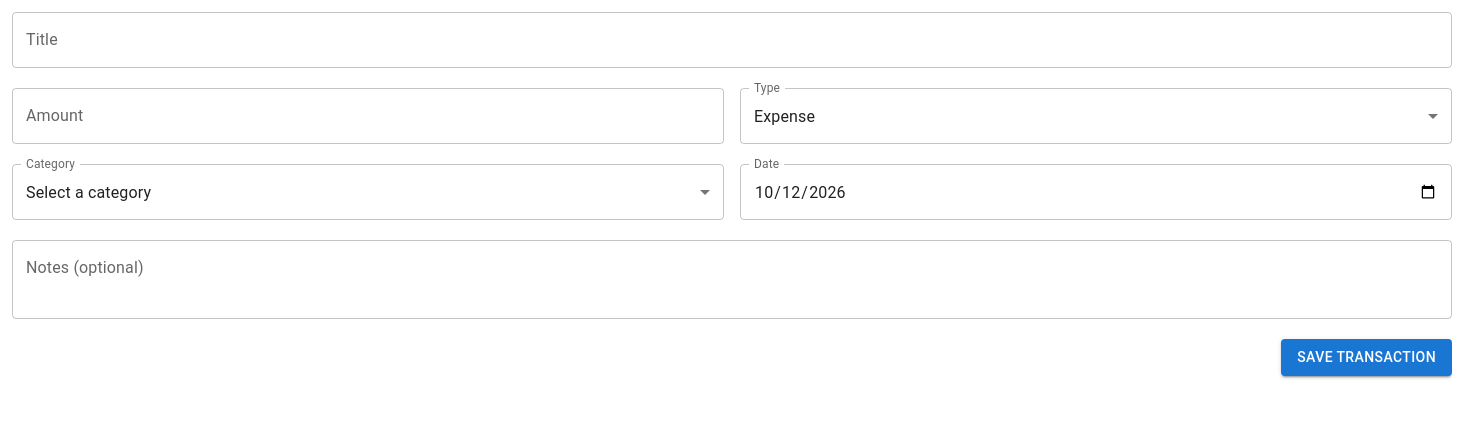
TransactionForm › rejects an amount of zero
The width and height of the screenshot is (1464, 441).
Type "Lunch" into the field labelled "Title" at (732, 40), box [12,12,1452,68]
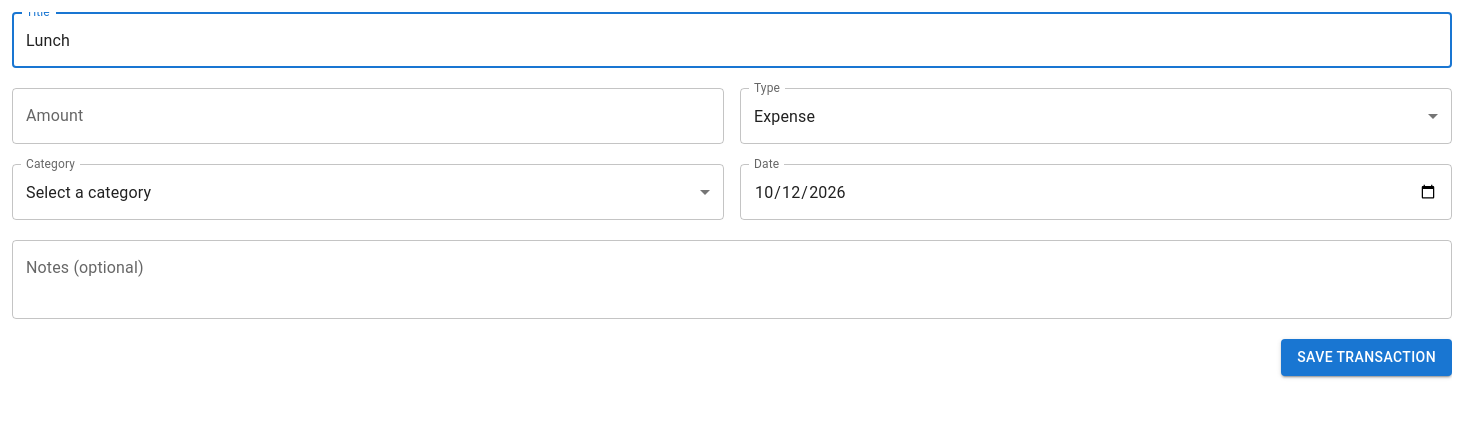
Type "0" into the field labelled "Amount" at (368, 116), box [12,88,724,144]
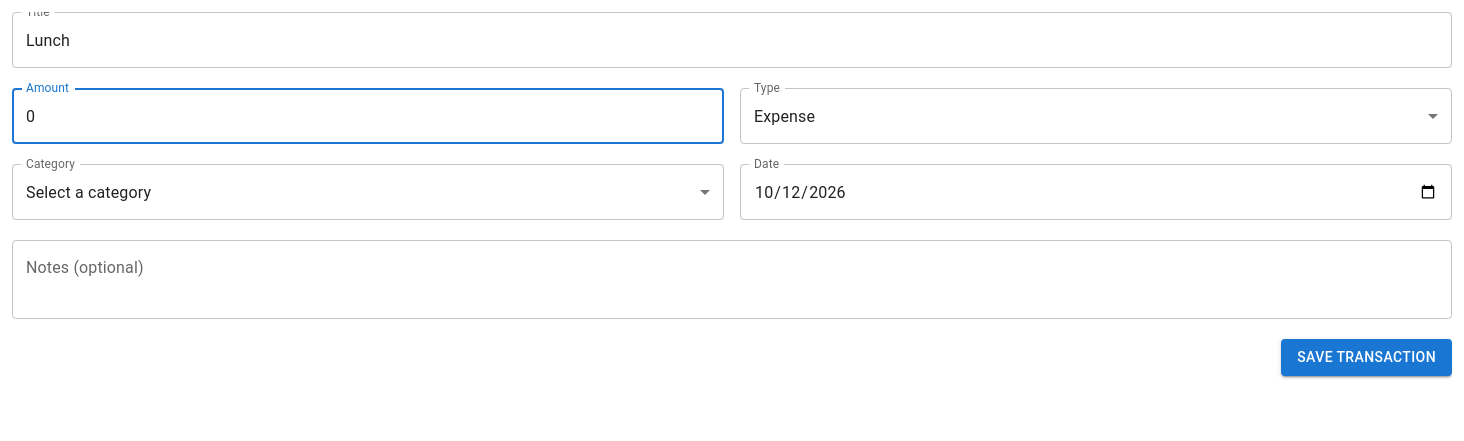
Click the button "Save transaction" at (1367, 357), box [1281,339,1452,376]
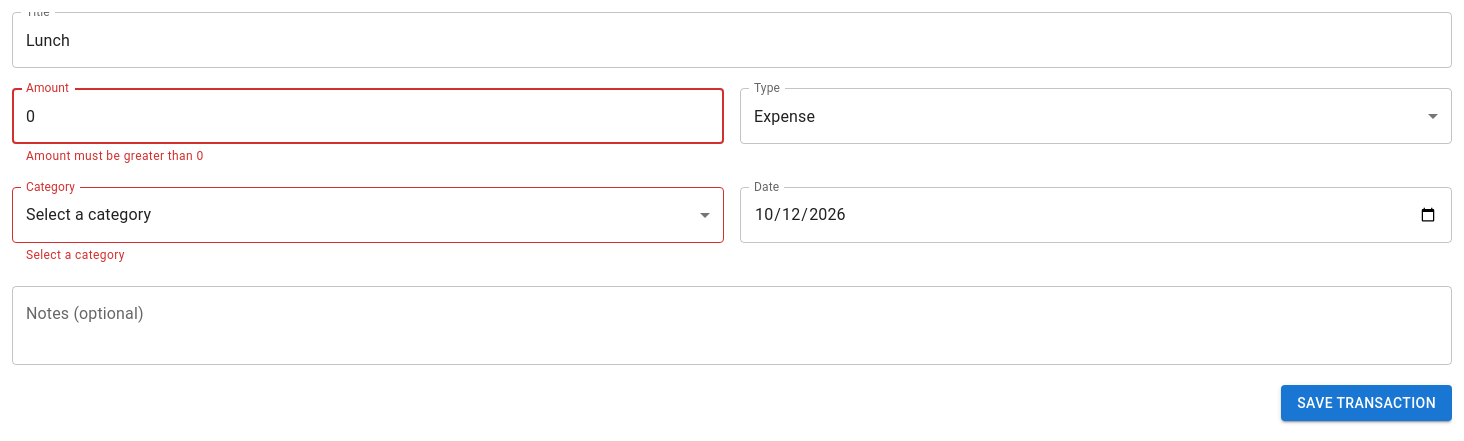
Expected: the text "Amount must be greater than 0" is shown, [26,149,204,163]
